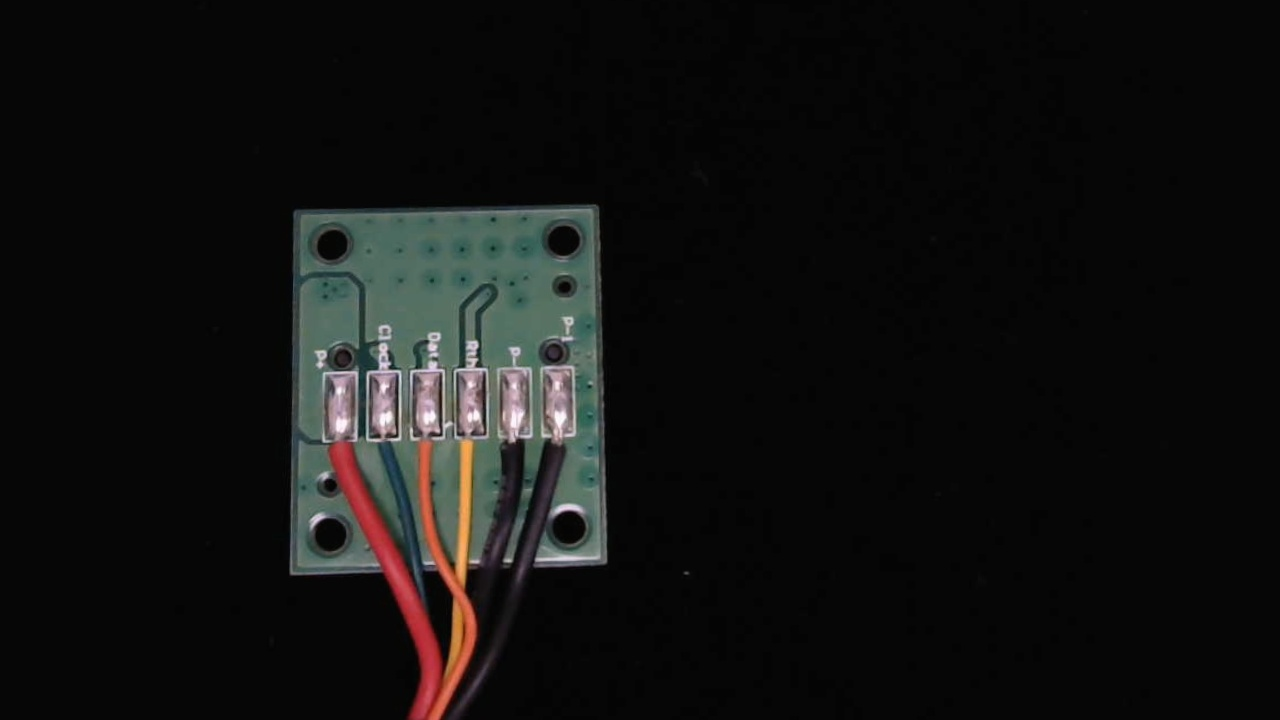Black: (498, 418, 532, 496)
Black1: (541, 420, 574, 485)
Green: (366, 419, 407, 497)
Orange: (410, 418, 449, 499)
Red: (321, 422, 362, 500)
Yellow: (455, 417, 488, 496)
